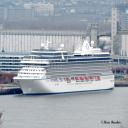cruises: (13, 35, 117, 96)
